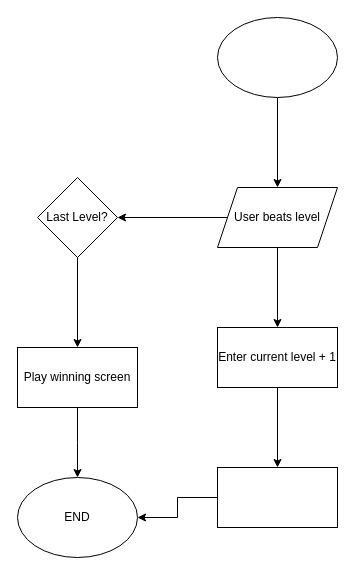
Image size: 355x575. Some labels were removed from this diagram. The centre of each missing label's shape, as x and y in pixels:
START: pixel 277 57
Update score: pixel 277 497
